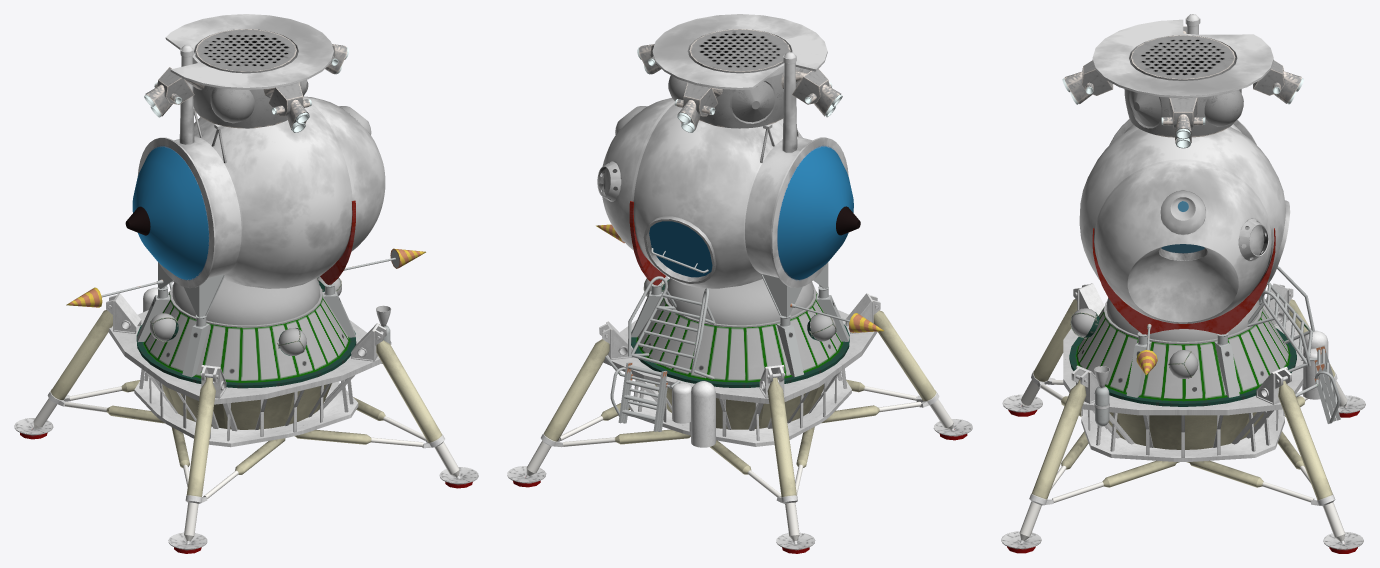
The model's file is Another lander.glb.
3 views of the same model, side by side, from view 1: azimuth 30°, elevation 25°; view 2: azimuth 150°, elevation 25°; view 3: azimuth 270°, elevation 25° (orthographic). The views are drawn at different scales.
Visible parts, largest first — view 1: object 1, object 12, object 46, object 11, object 31, object 25, object 27, object 47, object 48, object 26, object 45, object 24 (+16 smaller); view 2: object 1, object 12, object 46, object 11, object 31, object 47, object 45, object 48, object 25, object 27, object 30, LK.Leg2 (+20 smaller); view 3: object 1, object 12, object 46, object 47, object 48, object 27, object 26, object 31, object 45, object 25, object 2, object 24 (+23 smaller).
Boxes of the visible parts, left/top/right/bottom form: object 1: left=125, top=96, right=385, bottom=288; object 12: left=144, top=291, right=349, bottom=381; object 46: left=165, top=14, right=333, bottom=89; object 11: left=170, top=278, right=322, bottom=327; object 31: left=64, top=380, right=425, bottom=498; object 25: left=108, top=310, right=381, bottom=404; object 27: left=134, top=376, right=358, bottom=447; object 47: left=196, top=29, right=296, bottom=73; object 48: left=144, top=44, right=348, bottom=132; object 26: left=162, top=383, right=331, bottom=429; object 45: left=193, top=48, right=308, bottom=128; object 24: left=106, top=293, right=386, bottom=398; object 1: left=601, top=98, right=860, bottom=288; object 12: left=637, top=291, right=842, bottom=381; object 46: left=652, top=14, right=827, bottom=89; object 11: left=664, top=278, right=816, bottom=327; object 31: left=560, top=379, right=921, bottom=496; object 47: left=689, top=29, right=790, bottom=73; object 45: left=668, top=48, right=811, bottom=128; object 48: left=637, top=44, right=842, bottom=132; object 25: left=603, top=310, right=877, bottom=403; object 27: left=629, top=376, right=851, bottom=446; object 30: left=605, top=355, right=680, bottom=431; LK.Leg2: left=541, top=339, right=609, bottom=447; object 1: left=1079, top=119, right=1290, bottom=323; object 12: left=1076, top=307, right=1289, bottom=400; object 46: left=1092, top=19, right=1273, bottom=98; object 47: left=1131, top=35, right=1235, bottom=80; object 48: left=1062, top=26, right=1303, bottom=148; object 27: left=1081, top=409, right=1284, bottom=461; object 26: left=1108, top=412, right=1263, bottom=449; object 31: left=1040, top=379, right=1314, bottom=502; object 45: left=1124, top=55, right=1243, bottom=137; object 25: left=1063, top=320, right=1303, bottom=415; object 2: left=1092, top=228, right=1275, bottom=334; object 24: left=1071, top=283, right=1293, bottom=404.
Bounding box in the file's own units: 4.64 × 5.8 × 4.35.
Materials: 4 (4 with a texture image).
